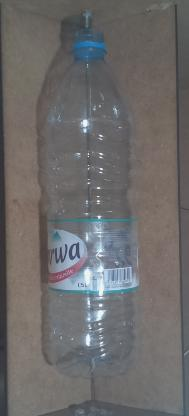Plastic Bottle: (46, 27, 140, 379)
